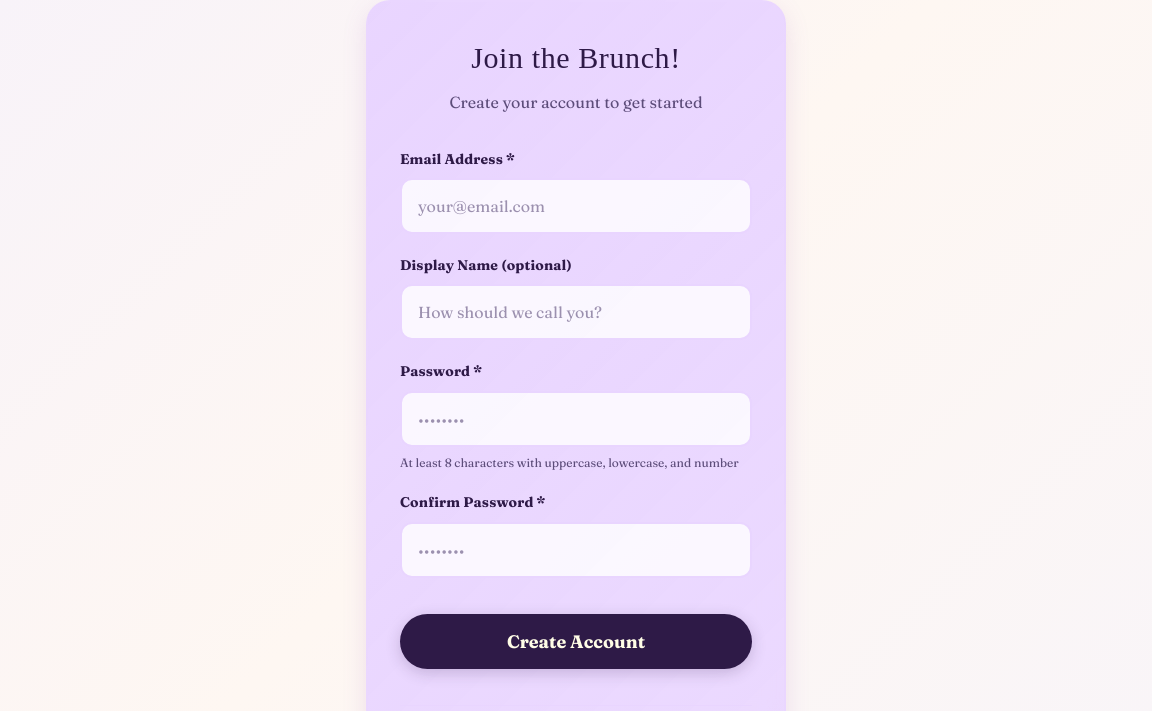
it: SignUpForm › Password Validation › should show error for password without uppercase letter
Type "test@example.com" into the field labelled "Email Address *".
click(576, 206); type("test@example.com")  # box [400,178,752,234]
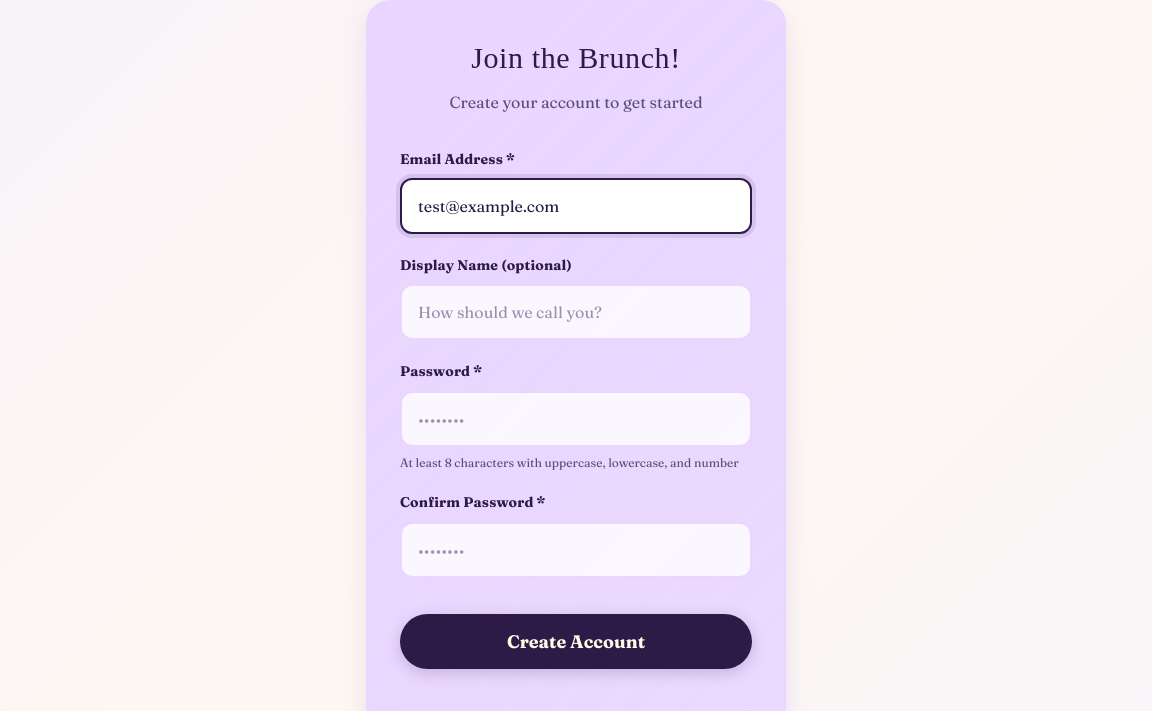
Type "password123" into the password field labelled "Password *".
click(576, 419); type("password123")  # box [400,391,752,447]
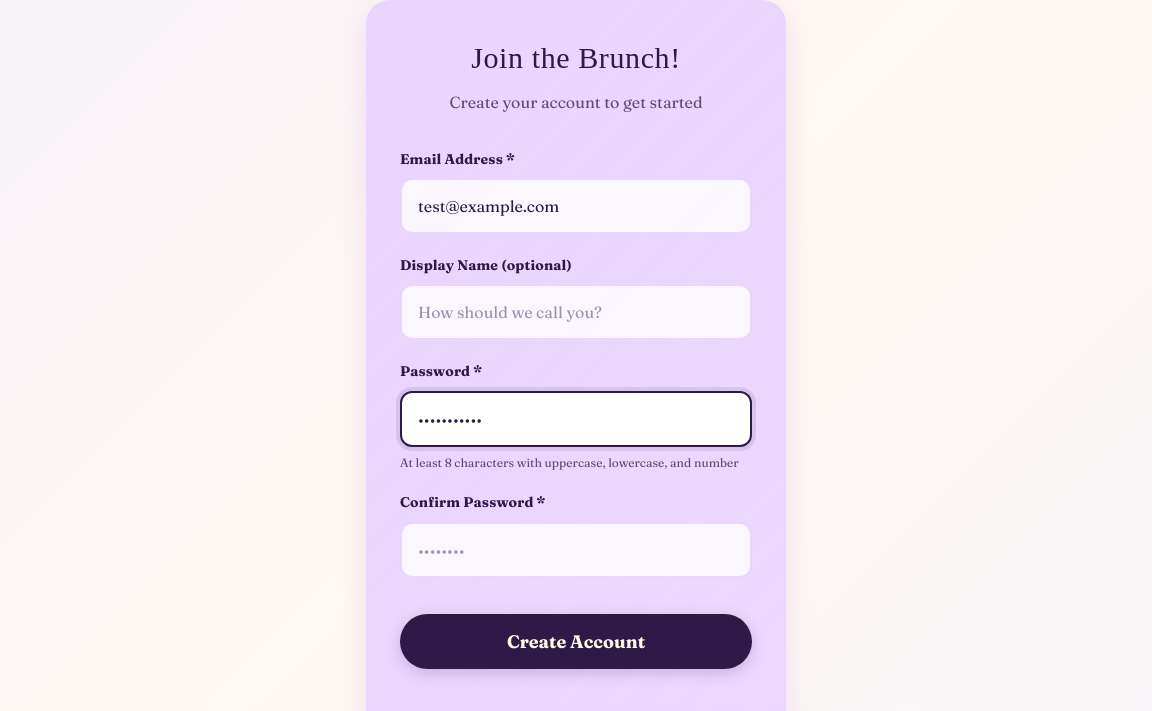
Type "password123" into the password field labelled "Confirm Password *".
click(576, 550); type("password123")  # box [400,522,752,578]
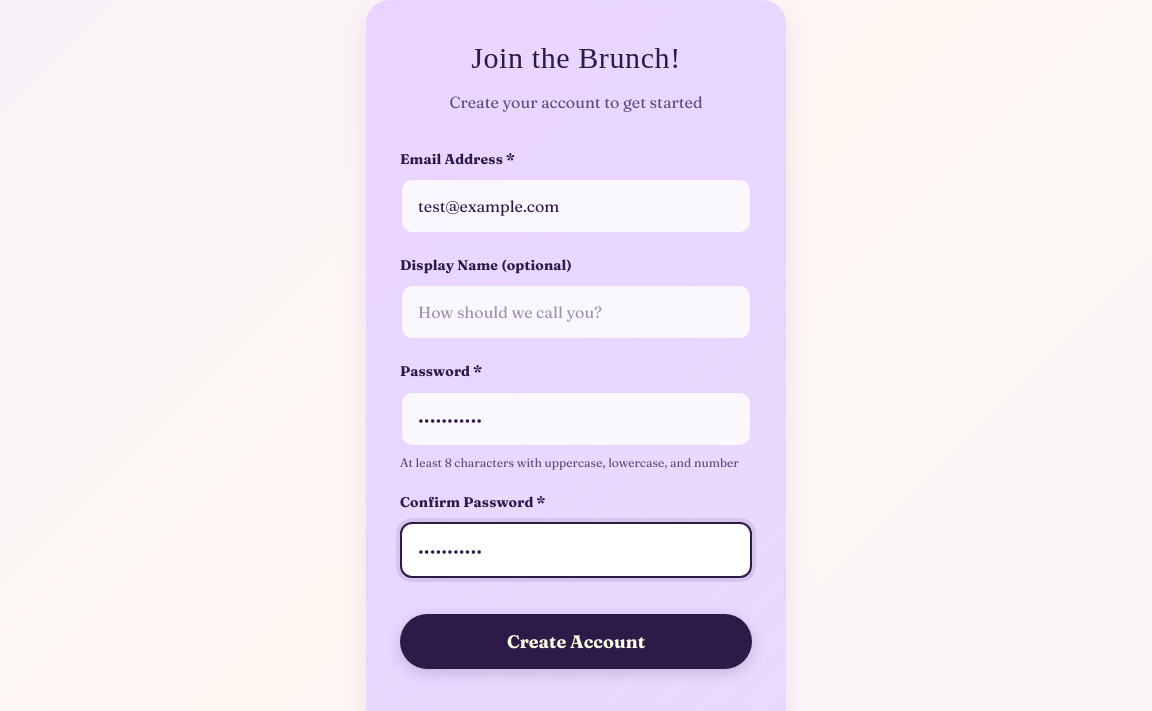
Click the button "Create Account".
click(576, 641)  # box [400,614,752,669]
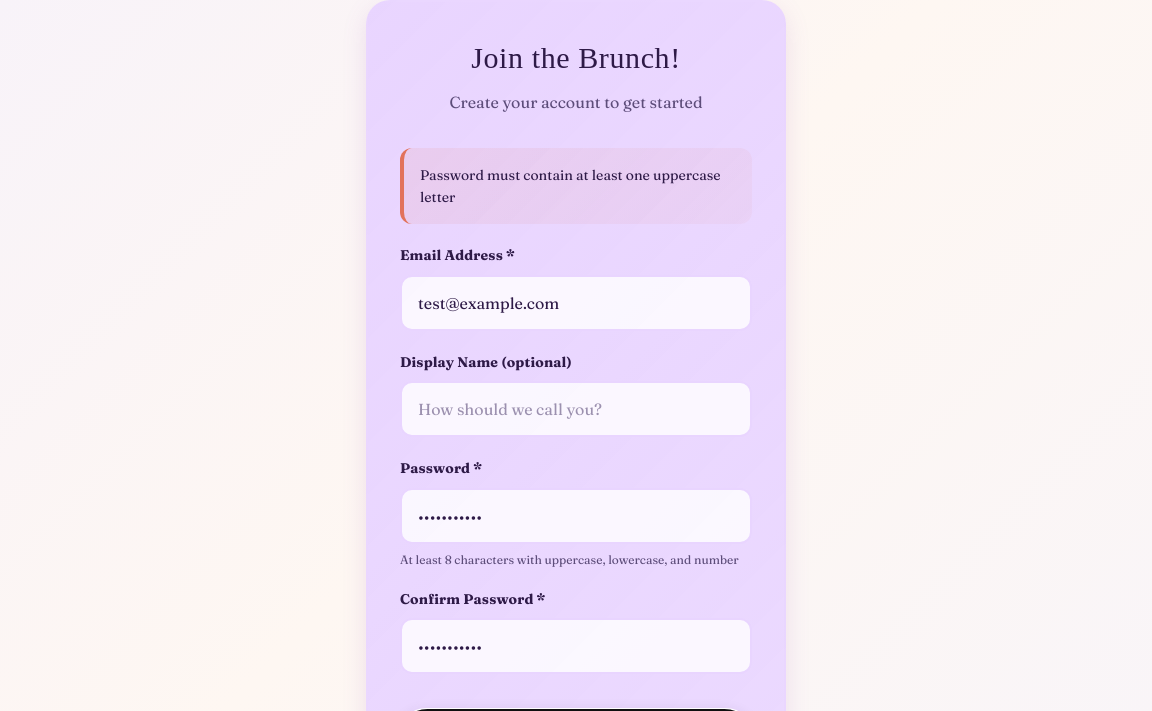
Now the text "Password must contain at least one uppercase letter" is shown, box [400,148,752,224]
